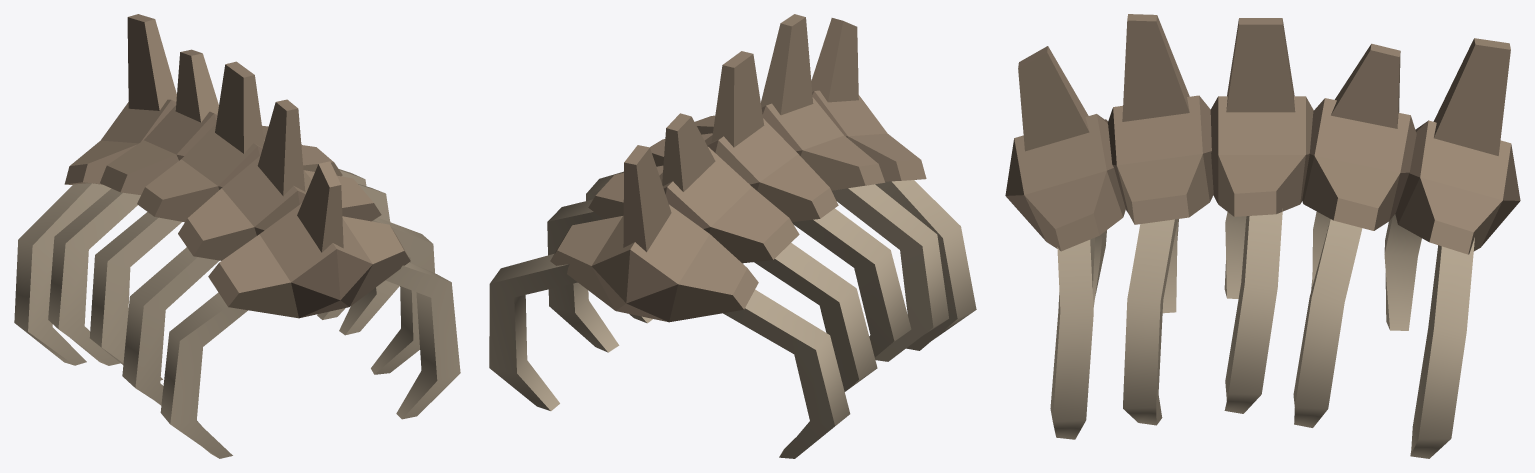
Rendered from SM_Env_Dungeon_Bones_01.glb.
3 renders of one model, left to right at view 1: azimuth 30°, elevation 25°; view 2: azimuth 150°, elevation 25°; view 3: azimuth 270°, elevation 25°, orthographic. The views are drawn at different scales.
Parts seen in each view (by area): view 1: SM_Env_Dungeon_Bones_01; view 2: SM_Env_Dungeon_Bones_01; view 3: SM_Env_Dungeon_Bones_01.
Part boxes in pixels (x1,y1,x2,y2): SM_Env_Dungeon_Bones_01: (14, 14, 460, 458); SM_Env_Dungeon_Bones_01: (489, 14, 976, 458); SM_Env_Dungeon_Bones_01: (1005, 14, 1520, 458).
Bounding box in the file's own units: 0.9793 × 0.9088 × 1.15.
1 material, 1 textured.
